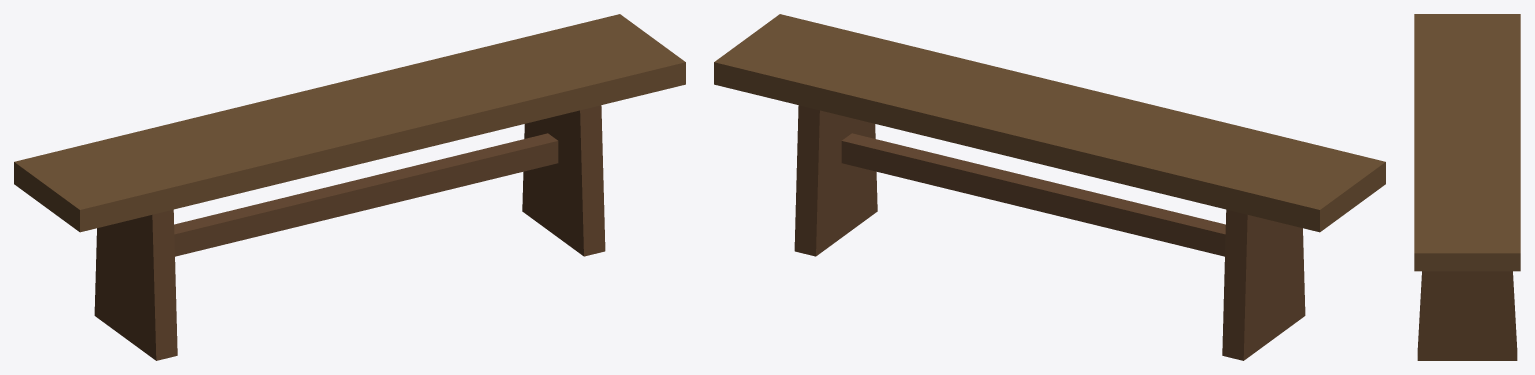
Rendered from Bench.fbx.
3 renders of one model, left to right at view 1: azimuth 30°, elevation 25°; view 2: azimuth 150°, elevation 25°; view 3: azimuth 270°, elevation 25°, orthographic. The views are drawn at different scales.
Visible parts, largest first — view 1: Bench; view 2: Bench; view 3: Bench.
Boxes of the visible parts, left/top/right/bottom form: Bench: left=14, top=14, right=685, bottom=360; Bench: left=714, top=14, right=1385, bottom=360; Bench: left=1414, top=14, right=1520, bottom=360.
Bounding box in the file's own units: 1.7 × 0.46 × 0.32.
